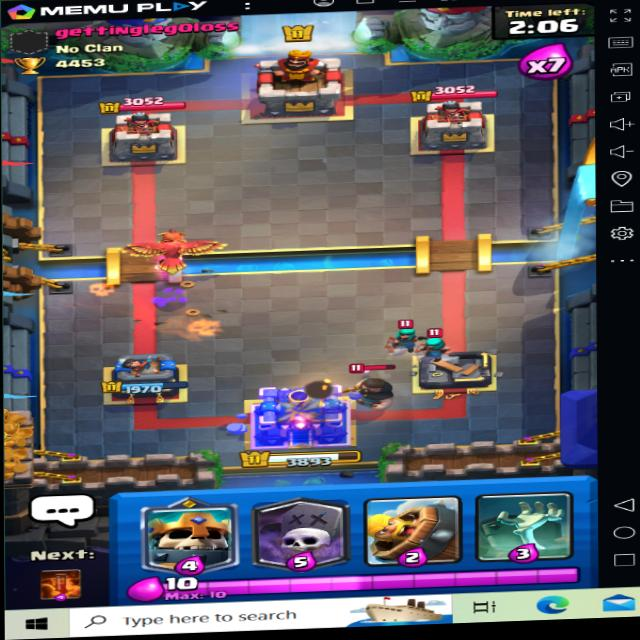rascal-boy: (347, 360, 406, 408)
rascal-girl: (388, 320, 429, 351), (419, 326, 456, 358)
